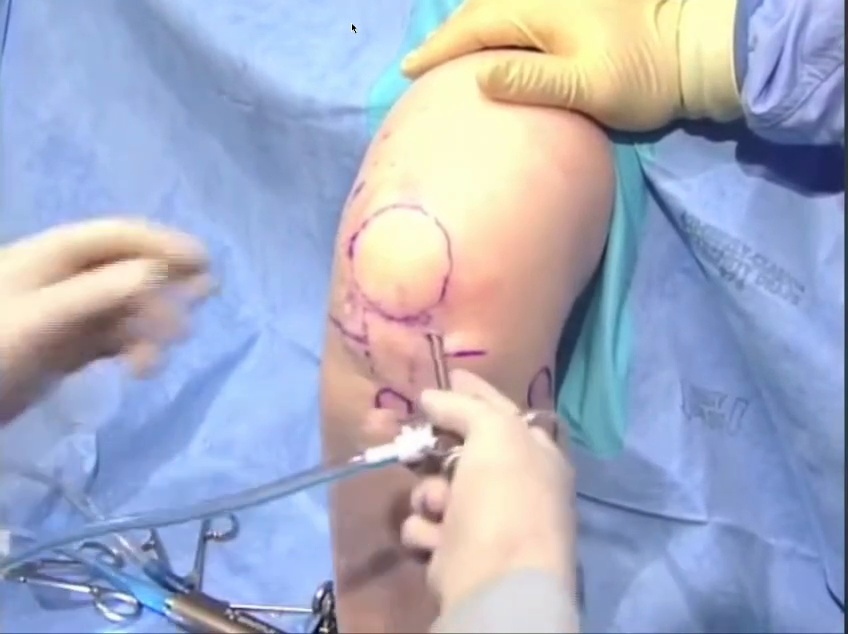arthroscope: (23, 134, 231, 463), (620, 0, 848, 162)
probe: (728, 153, 848, 618), (276, 183, 402, 471), (631, 156, 800, 328), (286, 148, 349, 232)
